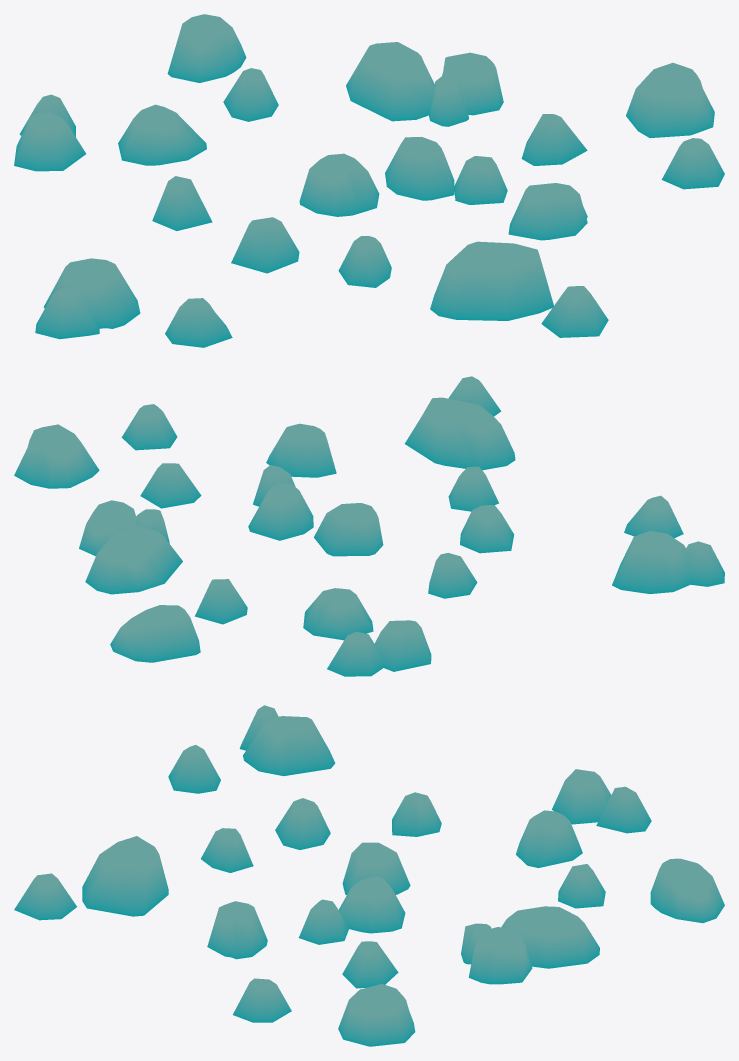
3 views of the same model, one above another, from view 1: azimuth 30°, elevation 25°; view 2: azimuth 150°, elevation 25°; view 3: azimuth 270°, elevation 25° (orthographic). The views are drawn at different scales.
Parts seen in each view (by area): view 1: G:\FFXIV-MapTools\exports\n5f1\bg\ex4\01_nvt_n5\fld\n5f1\bgp; view 2: G:\FFXIV-MapTools\exports\n5f1\bg\ex4\01_nvt_n5\fld\n5f1\bgp; view 3: G:\FFXIV-MapTools\exports\n5f1\bg\ex4\01_nvt_n5\fld\n5f1\bgp.
Part boxes in pixels (x1,y1,x2,y2): G:\FFXIV-MapTools\exports\n5f1\bg\ex4\01_nvt_n5\fld\n5f1\bgp: [14, 14, 724, 347]; G:\FFXIV-MapTools\exports\n5f1\bg\ex4\01_nvt_n5\fld\n5f1\bgp: [14, 376, 724, 676]; G:\FFXIV-MapTools\exports\n5f1\bg\ex4\01_nvt_n5\fld\n5f1\bgp: [14, 705, 724, 1046].
Size of the model in its own units: 7.57 by 0.4786 by 7.15.
